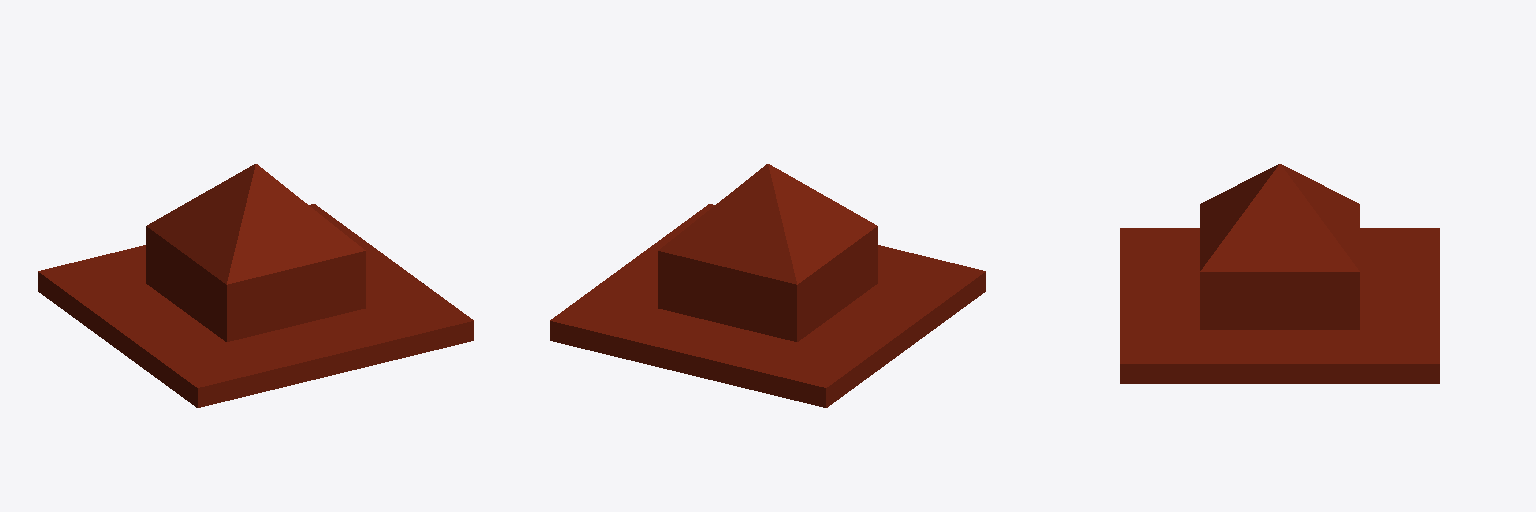
Rendered from house_placeHolder.obj.
3 views of the same model, side by side, from view 1: azimuth 30°, elevation 25°; view 2: azimuth 150°, elevation 25°; view 3: azimuth 270°, elevation 25° (orthographic).
Parts seen in each view (by area): view 1: house_PH; view 2: house_PH; view 3: house_PH.
Part boxes in pixels (bbox=[...]): house_PH: bbox=[38, 164, 473, 407]; house_PH: bbox=[550, 164, 985, 407]; house_PH: bbox=[1120, 164, 1439, 383].
Bounding box in the file's own units: 9.57 × 6.13 × 9.57.